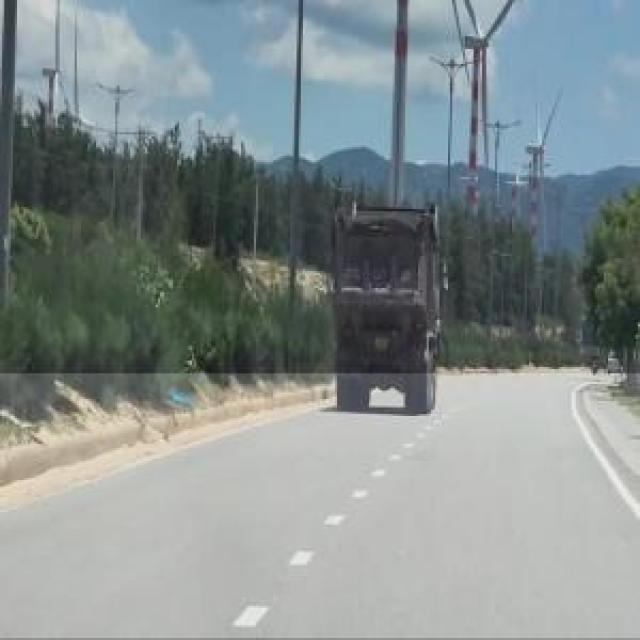clear-road: (0, 374, 640, 640)
